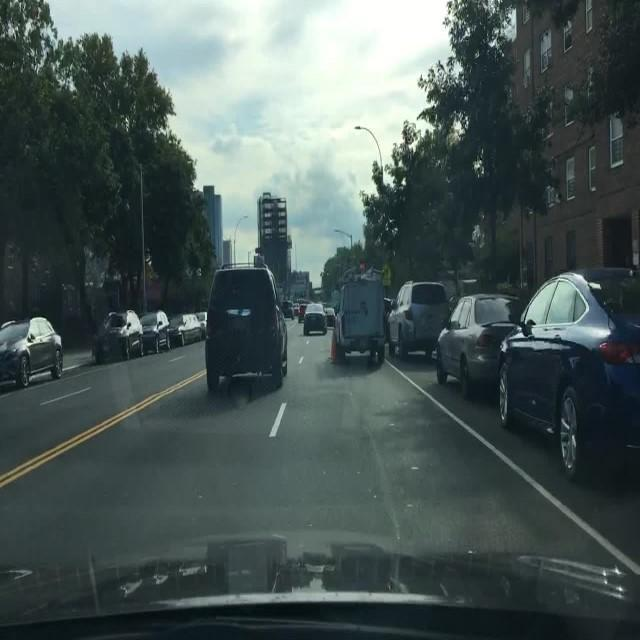normal: (0, 232, 640, 569)
